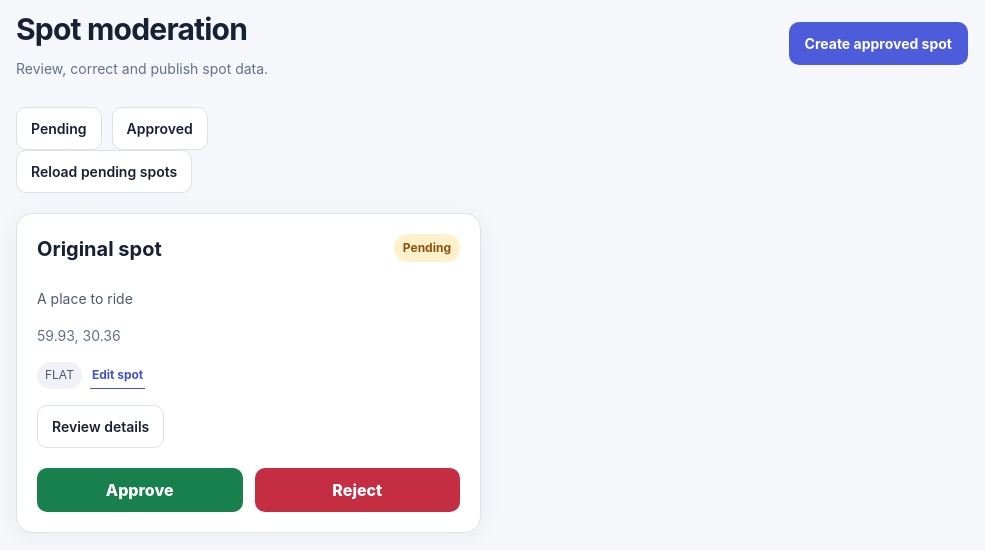
Test: loads approved spots from the administrative endpoint
expect the tab "Pending" is shown: met, box [16,107,102,150]
What coordinates should you click on to do the following:
click the tab "Approved"
I would click on:
 (160, 128)
Its box is [112,107,208,150].
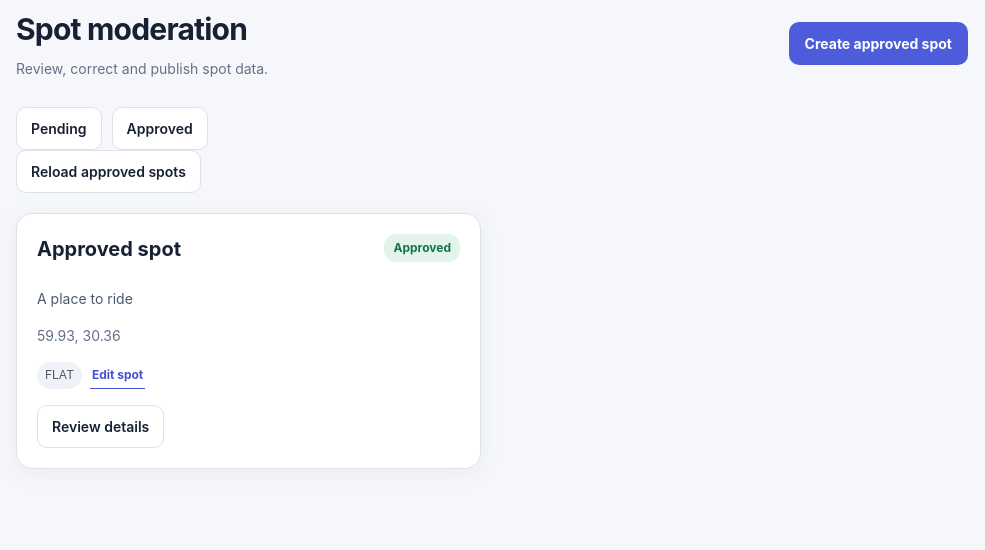
expect the heading "Approved spot" is shown: met, box [37,234,181,264]
